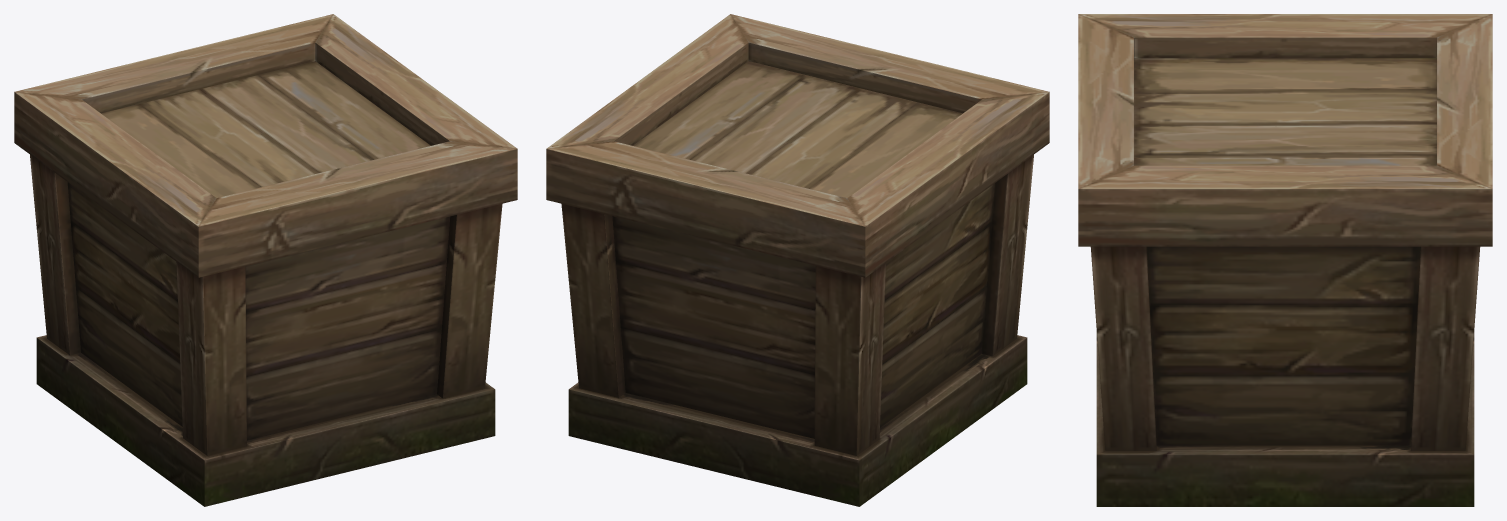
Rendered from xiangzi.FBX.
3 views of the same model, side by side, from view 1: azimuth 30°, elevation 25°; view 2: azimuth 150°, elevation 25°; view 3: azimuth 270°, elevation 25° (orthographic). The views are drawn at different scales.
Visible parts, largest first — view 1: xiangzi; view 2: xiangzi; view 3: xiangzi.
Boxes of the visible parts, box(x1,y1,x2,y2) form: xiangzi: box(14, 14, 517, 506); xiangzi: box(546, 14, 1049, 506); xiangzi: box(1078, 14, 1492, 506).
Size of the model in its own units: 121 by 105 by 121.
